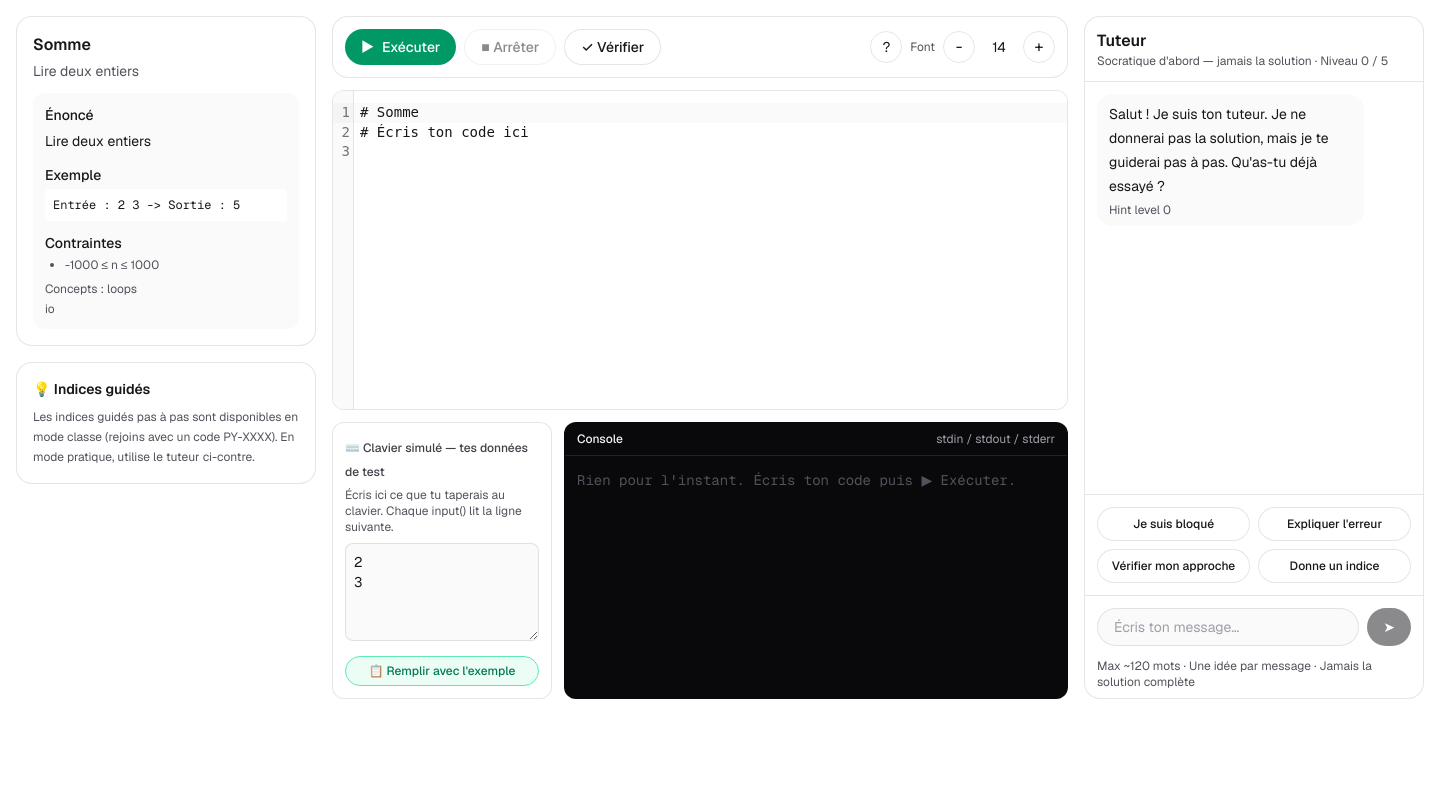
Scenario: WorkspaceClient — IDE + runner › stdin fill-example button fills stdin with the statement example
This screenshot has width=1440, height=810.
Click the button with test id "stdin-fill-example": click(442, 671) left=345, top=656, right=539, bottom=686
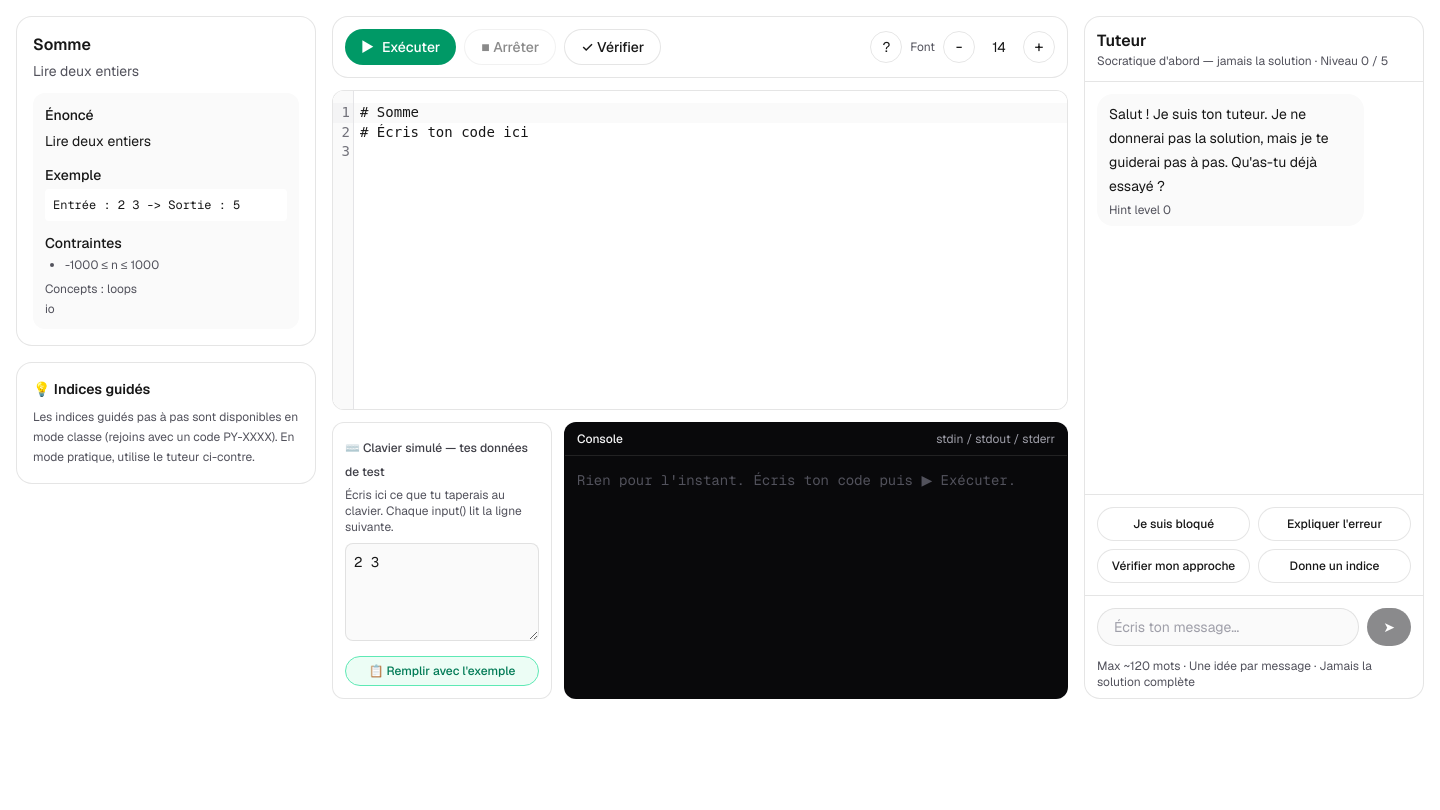
Check: the text box with test id "stdin-input" holds "2 3", box left=345, top=543, right=539, bottom=641
